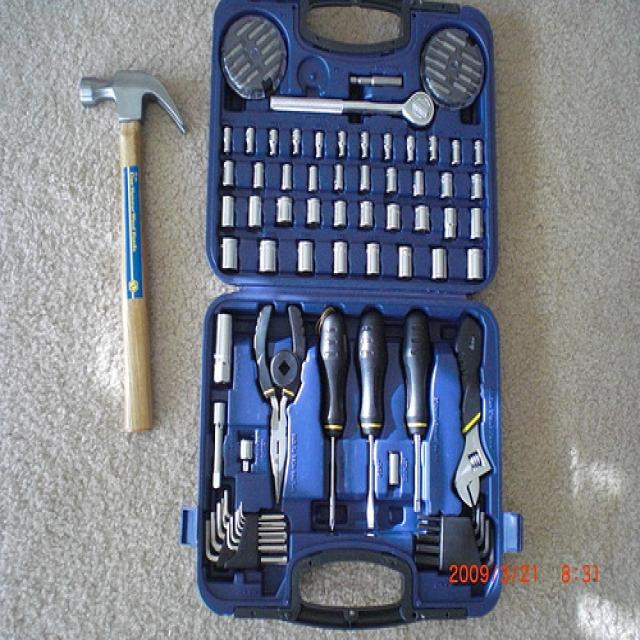hammer: (67, 45, 202, 461)
